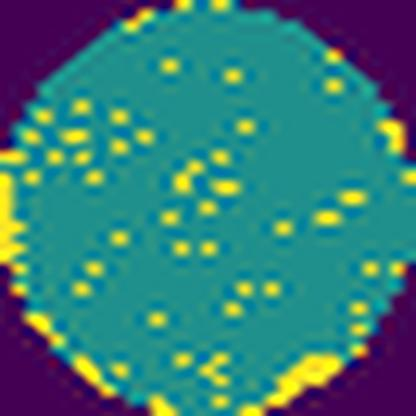Edge-Loc: (242, 349, 349, 416), (0, 173, 31, 267), (151, 391, 175, 416)
